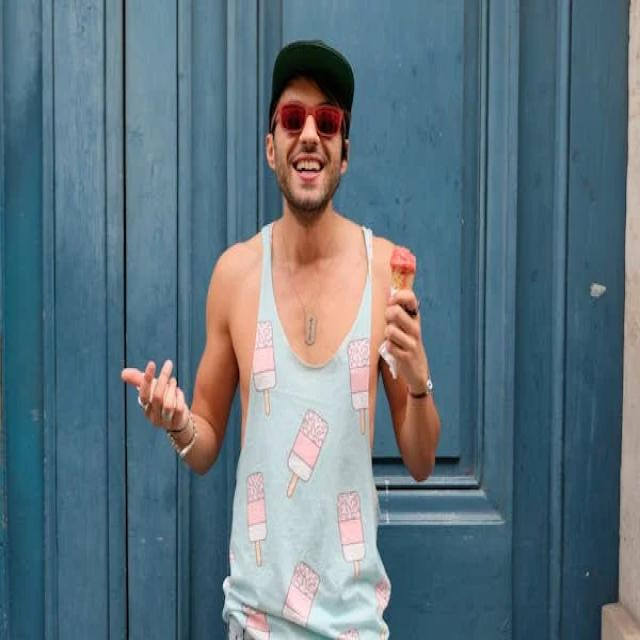Real human 2: (120, 22, 456, 640)
